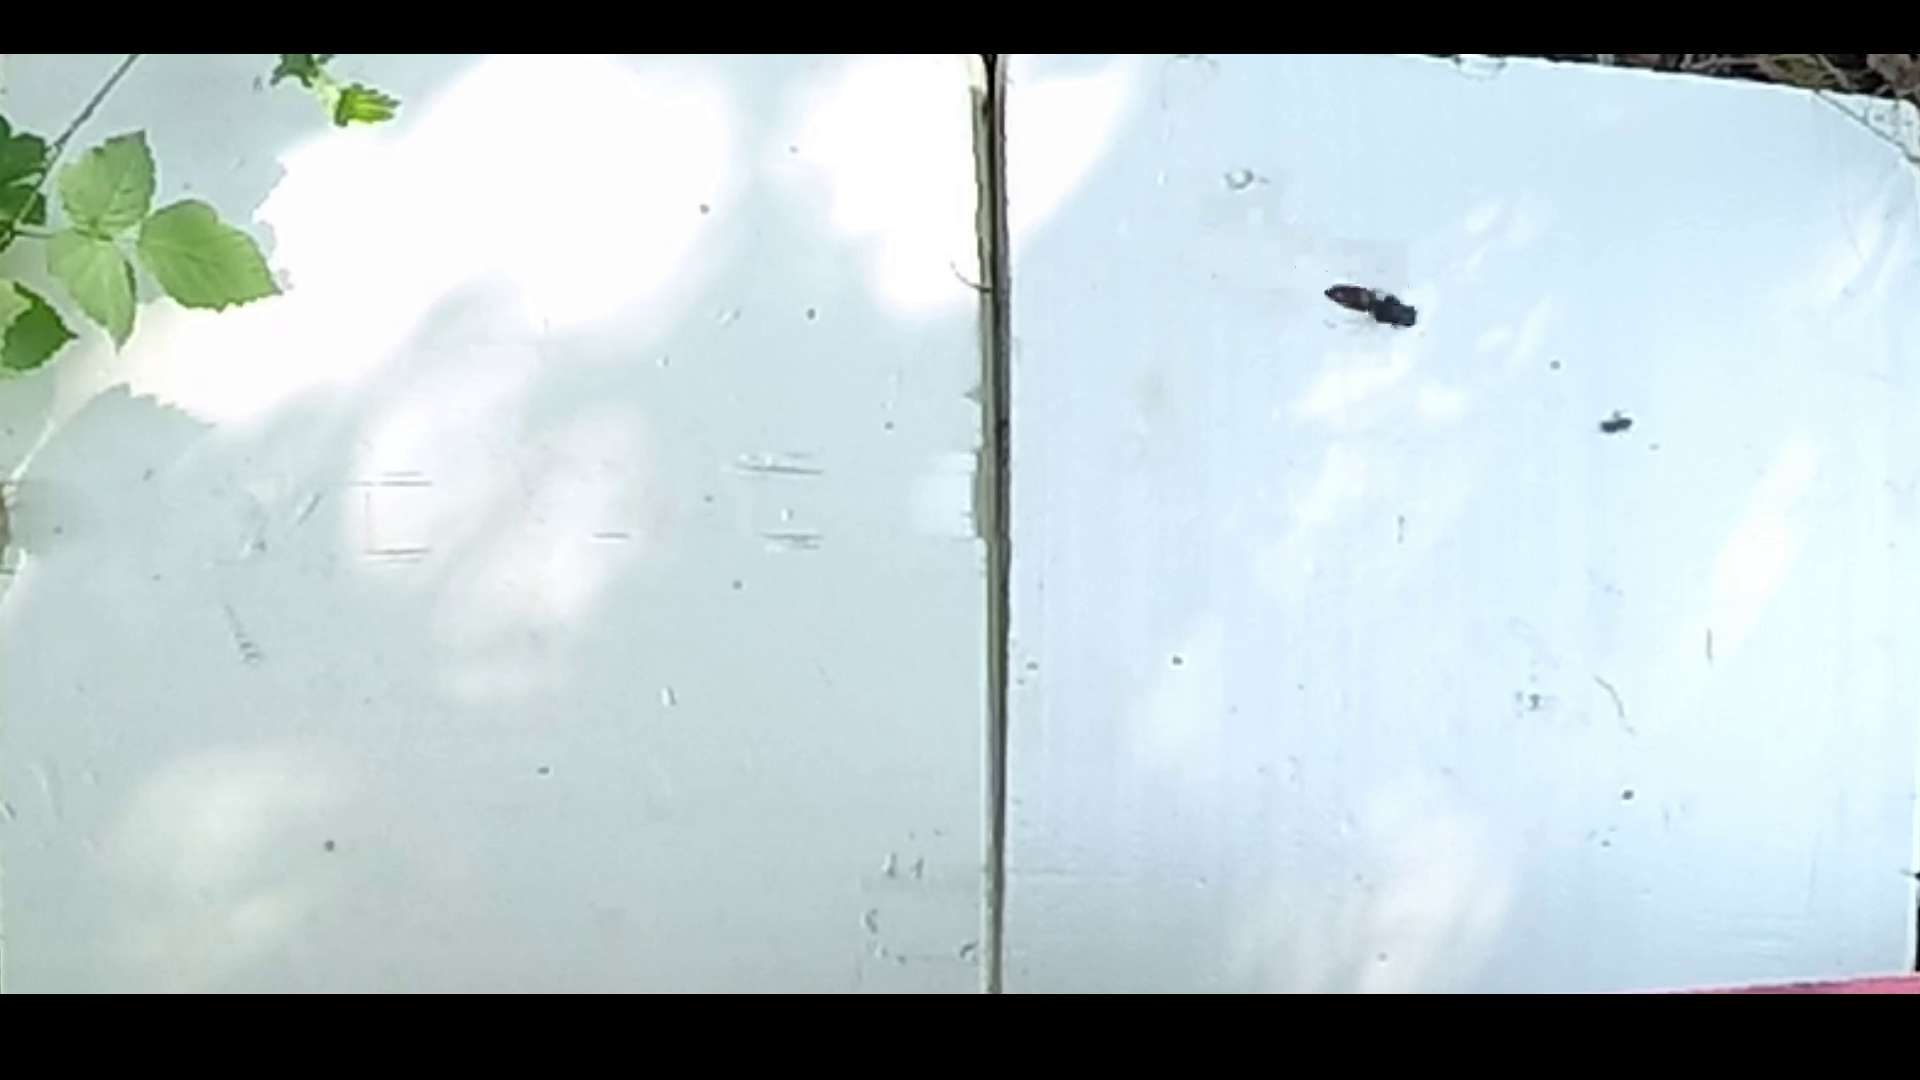Asian_hornets: (1300, 251, 1431, 361)
